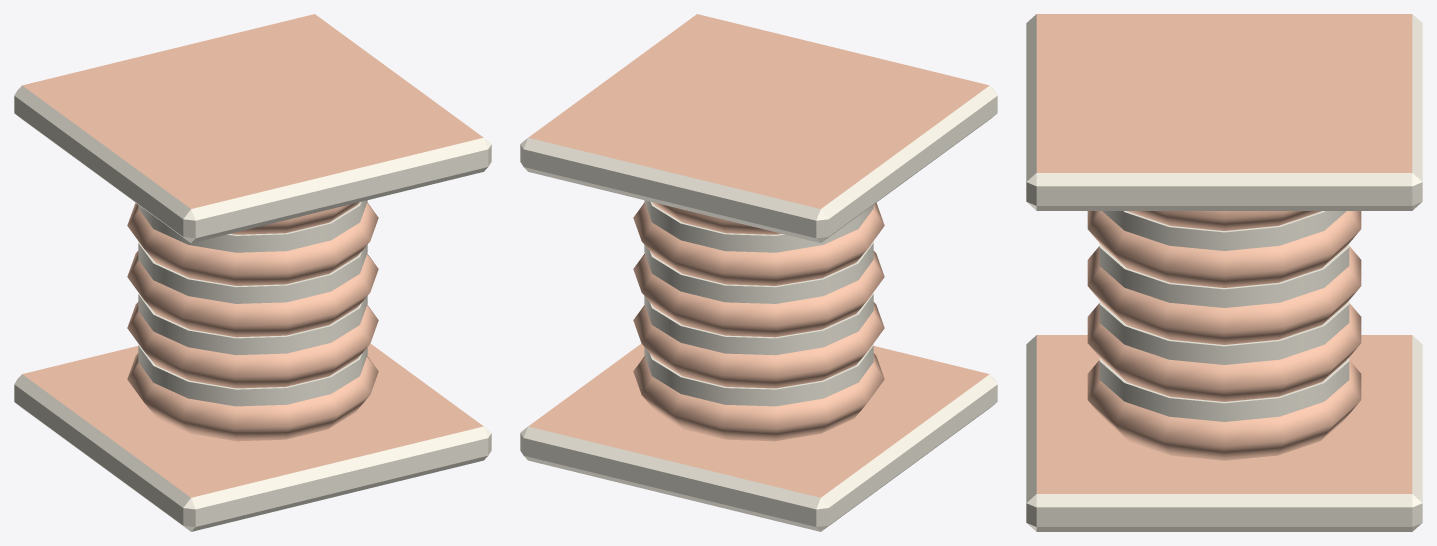
File: R4X_Suspension_LOD1.fbx
The picture shows the model from 3 angles, left to right: view 1: azimuth 30°, elevation 25°; view 2: azimuth 150°, elevation 25°; view 3: azimuth 270°, elevation 25°; orthographic projection. The views are drawn at different scales.
Visible parts, largest first — view 1: R4X_Suspension_LOD1; view 2: R4X_Suspension_LOD1; view 3: R4X_Suspension_LOD1.
Boxes of the visible parts, x1,y1,x2,y2 form: R4X_Suspension_LOD1: [14, 14, 491, 531]; R4X_Suspension_LOD1: [520, 14, 997, 531]; R4X_Suspension_LOD1: [1026, 14, 1422, 531].
Bounding box in the file's own units: 0.52 × 0.52 × 0.52.
